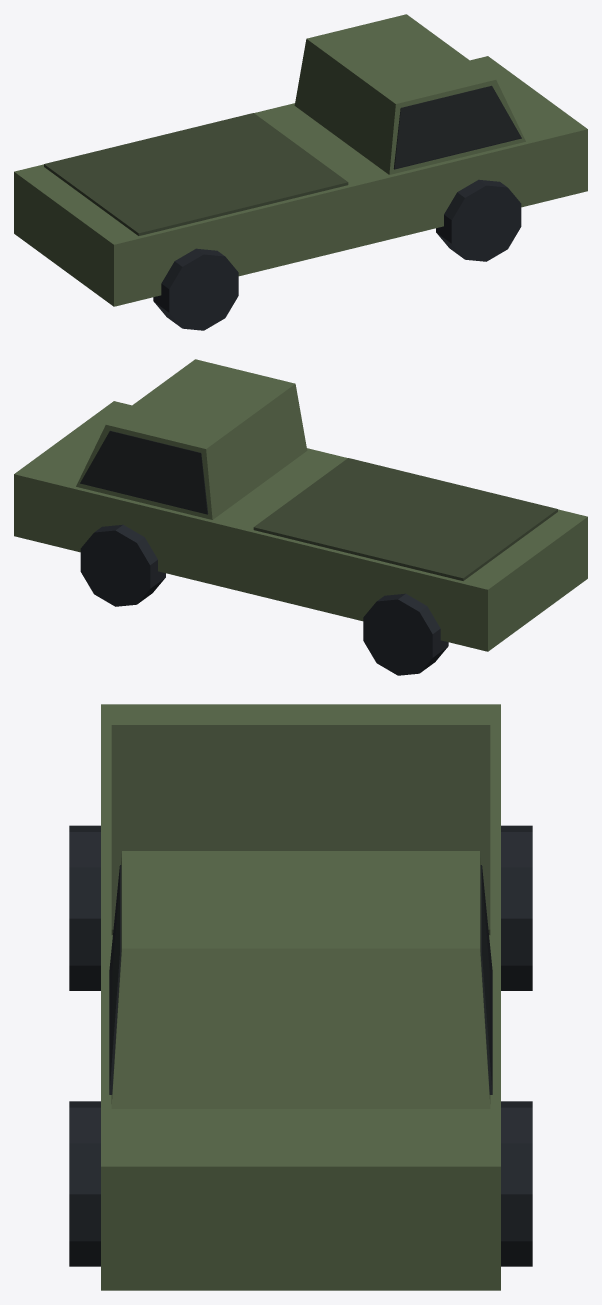
Rendered from pickup_truck.glb.
The picture shows the model from 3 angles, top to bottom: view 1: azimuth 30°, elevation 25°; view 2: azimuth 150°, elevation 25°; view 3: azimuth 270°, elevation 25°; orthographic projection. The views are drawn at different scales.
Visible parts, largest first — view 1: pickup_truck; view 2: pickup_truck; view 3: pickup_truck.
Part boxes in pixels (bbox=[...]): pickup_truck: bbox=[14, 14, 587, 330]; pickup_truck: bbox=[14, 359, 587, 675]; pickup_truck: bbox=[69, 704, 532, 1290].
Bounding box in the file's own units: 5.2 × 1.75 × 2.2.
